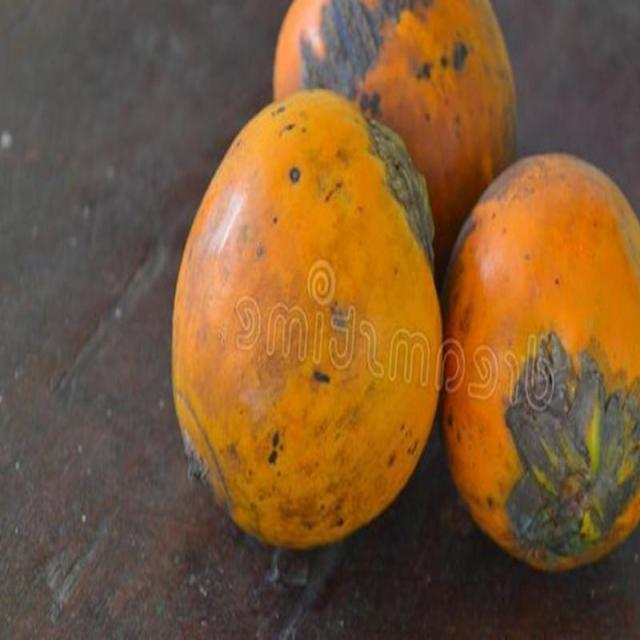good: (170, 88, 444, 553), (438, 154, 639, 576), (276, 0, 519, 290)
